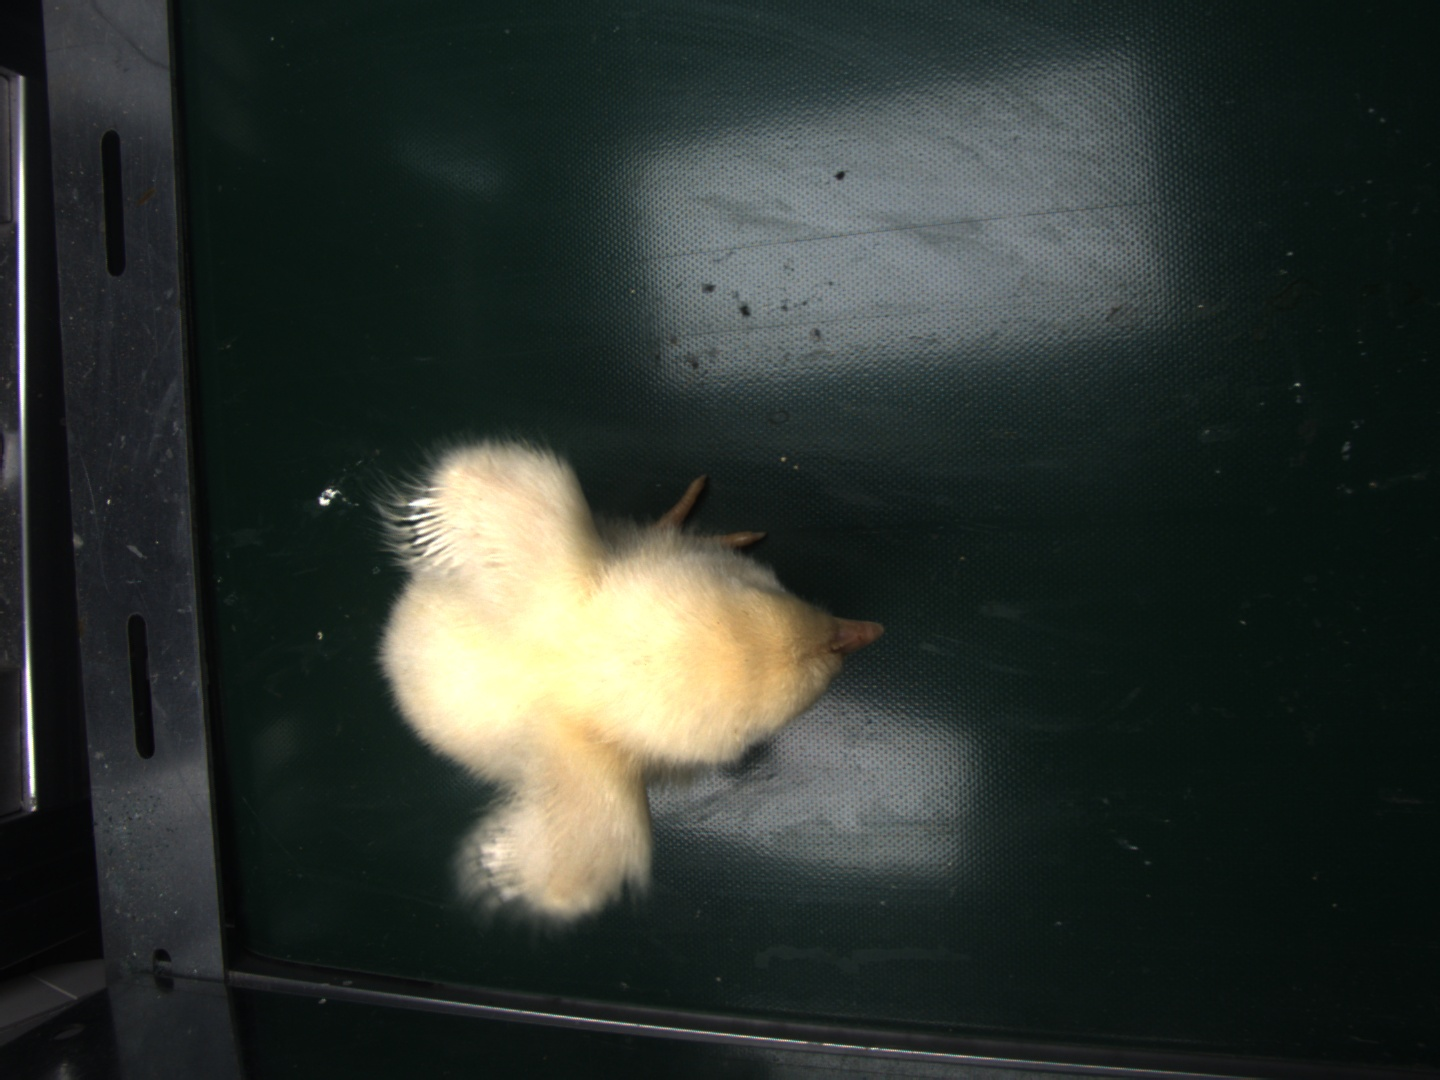male: (403, 486, 467, 571)
